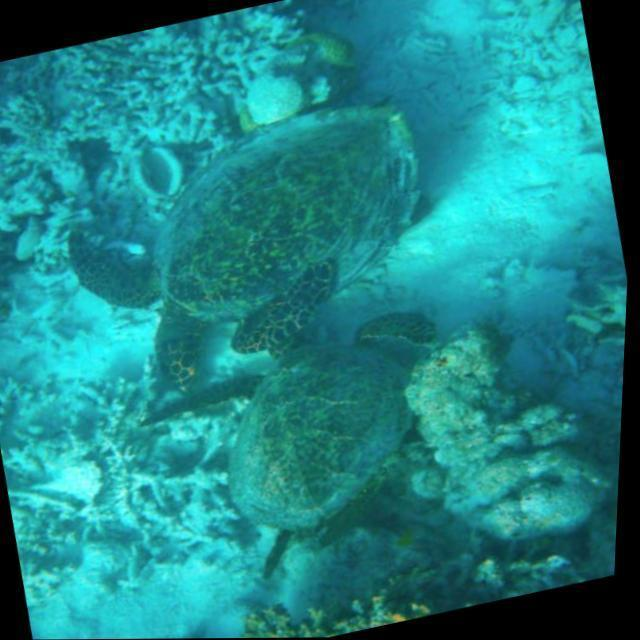Dead Coral: (0, 52, 228, 589), (392, 283, 628, 567)
